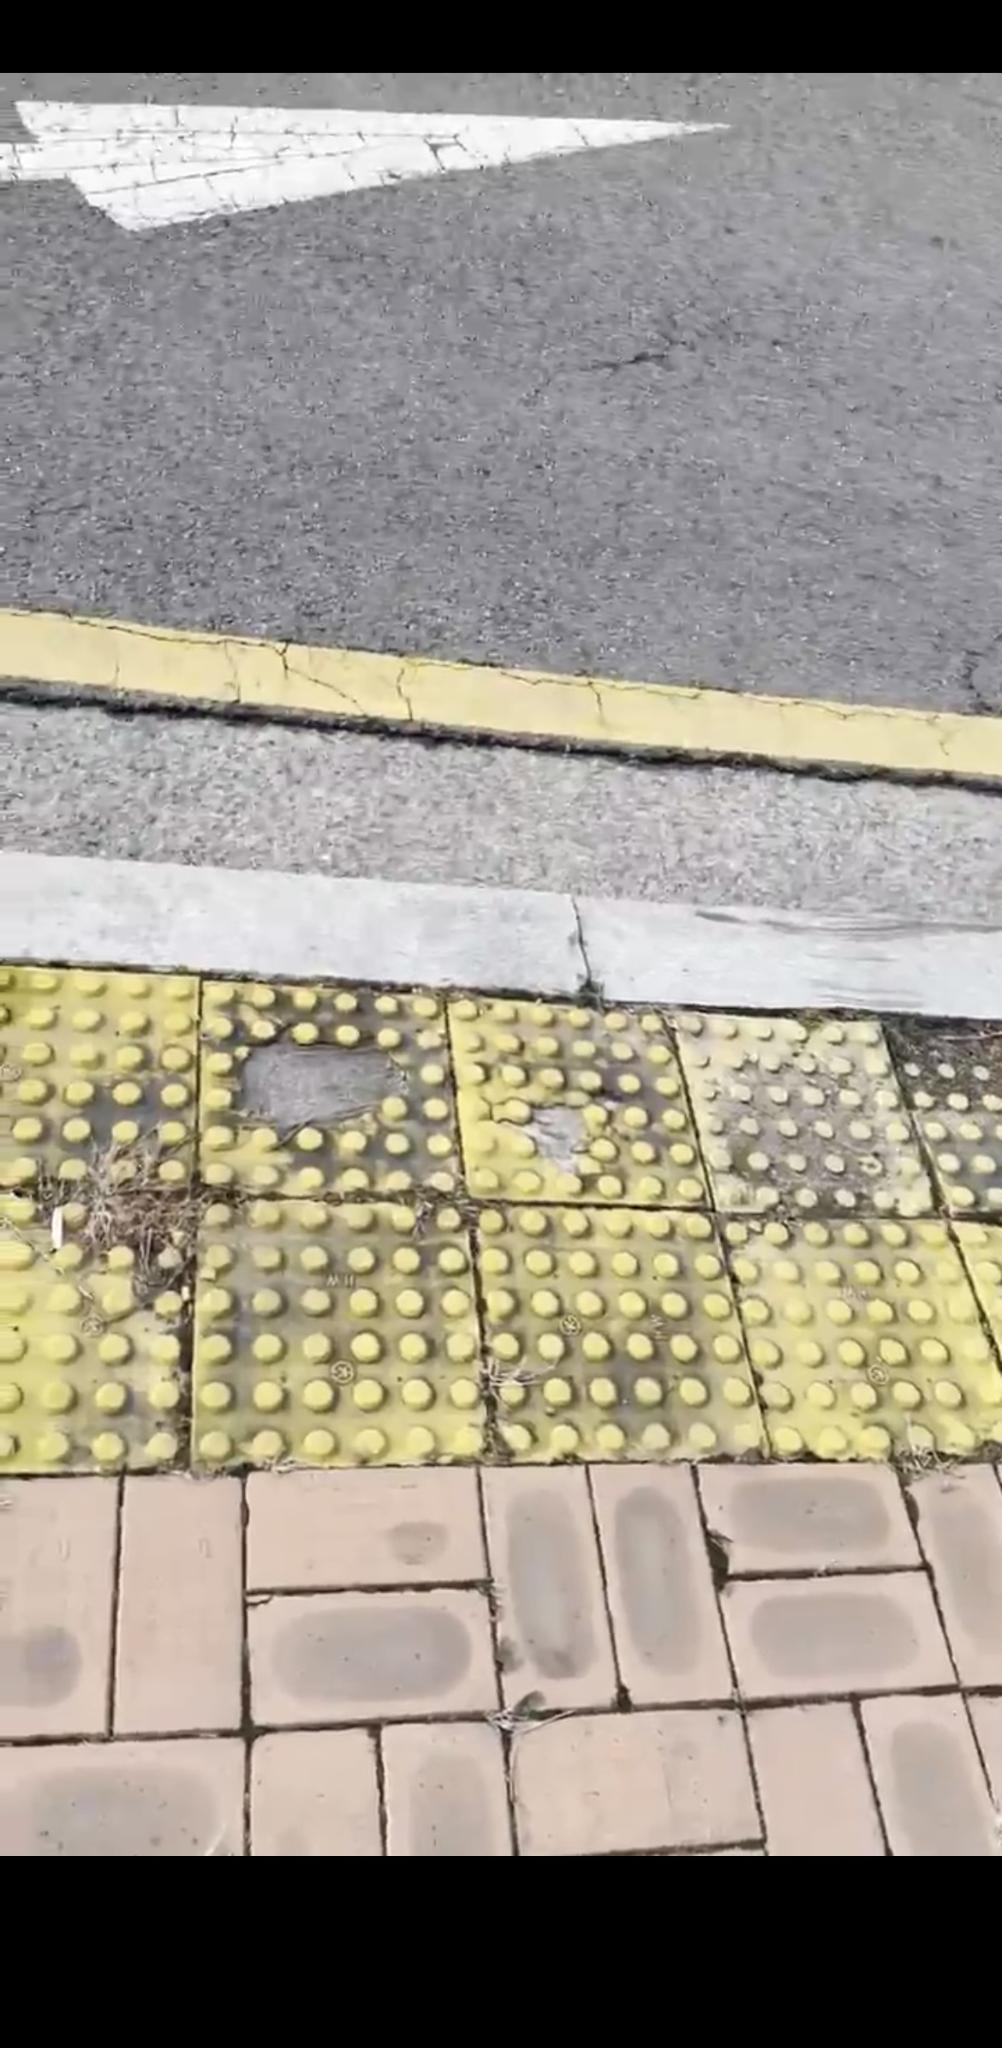Stop block broken: (199, 981, 461, 1194), (447, 997, 711, 1206)
Stop block normal: (195, 1202, 489, 1471), (474, 1204, 767, 1462)
